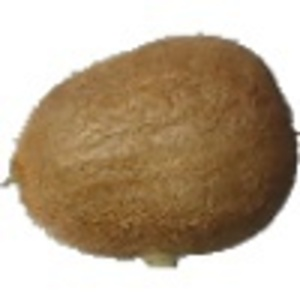kiwi: (1, 33, 300, 276)
